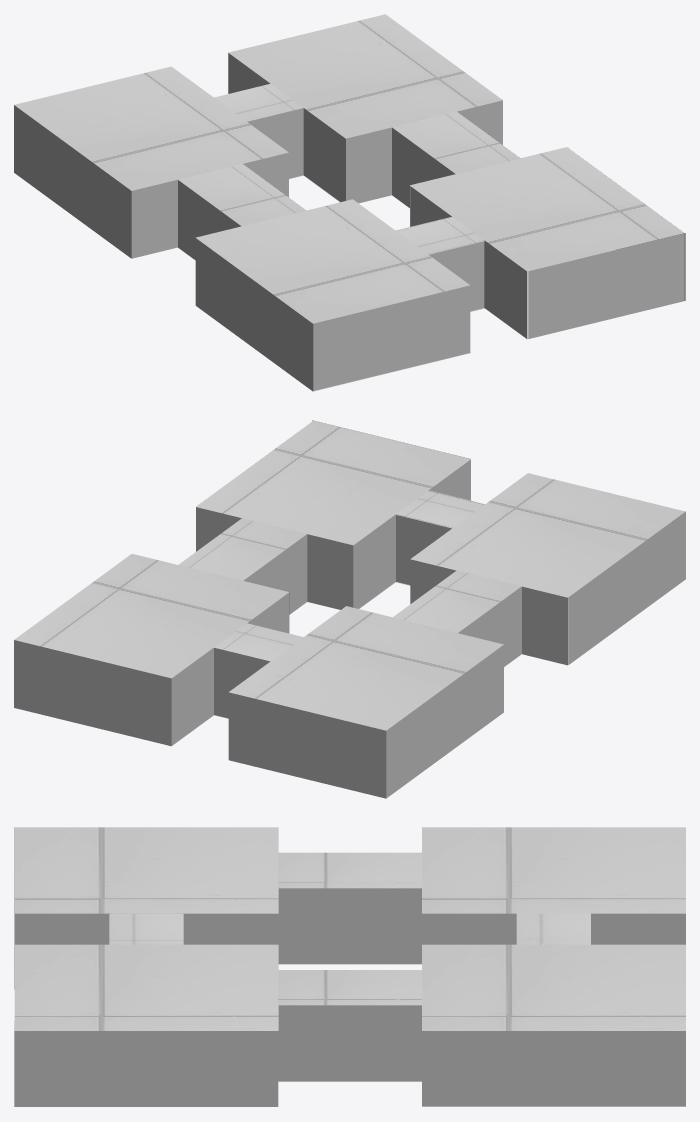
The model's file is art_galery.obj.
The picture shows the model from 3 angles, top to bottom: view 1: azimuth 30°, elevation 25°; view 2: azimuth 150°, elevation 25°; view 3: azimuth 270°, elevation 25°; orthographic projection. The views are drawn at different scales.
Parts seen in each view (by area): view 1: ceeling, ceeling.002, ceeling.005, ceeling.003, wall.1.019, wall.1.012, wall.1.009, wall.1.5, ceeling.004, ceeling.001, wall.1.1, wall.1.018 (+12 smaller); view 2: ceeling.005, ceeling, ceeling.003, ceeling.002, wall.1.6, wall.1.013, wall.1.5, wall.1.009, ceeling.001, ceeling.004, wall.1.024, wall.1.007 (+12 smaller); view 3: ceeling.003, ceeling.002, ceeling, ceeling.005, wall.1.022, wall.1.014, wall.001, wall.002, ceeling.001, ceeling.004, wall.1.010, wall.1.011 (+4 smaller).
Boxes of the visible parts, x1,y1,x2,y2 form: ceeling: (14,66,288,190); ceeling.002: (196,199,469,323); ceeling.005: (228,14,502,138); ceeling.003: (410,147,683,271); wall.1.019: (528,233,685,338); wall.1.012: (313,285,470,390); wall.1.009: (195,238,313,391); wall.1.5: (14,105,131,258); ceeling.004: (392,111,520,174); ceeling.001: (178,164,306,226); wall.1.1: (131,179,177,258); wall.1.018: (346,127,391,203); ceeling.005: (14,554,288,678); ceeling: (229,606,503,730); ceeling.003: (196,420,470,545); ceeling.002: (410,473,685,597); wall.1.6: (228,692,386,798); wall.1.013: (14,640,171,746); wall.1.5: (386,645,503,798); wall.1.009: (568,511,685,664); ceeling.001: (393,570,521,633); ceeling.004: (178,518,306,580); wall.1.024: (307,534,353,609); wall.1.007: (522,586,567,665); ceeling.003: (14,944,278,1030); ceeling.002: (14,827,278,913); ceeling: (422,827,685,913); ceeling.005: (422,944,685,1030); wall.1.022: (14,1031,278,1106); wall.1.014: (422,1031,685,1106); wall.001: (278,888,421,964); wall.002: (278,1005,421,1081); ceeling.001: (278,852,422,888); ceeling.004: (278,970,422,1005); wall.1.010: (182,913,278,944); wall.1.011: (15,913,110,944).
Bounding box in the file's own units: 80.52 × 14.04 × 112.
